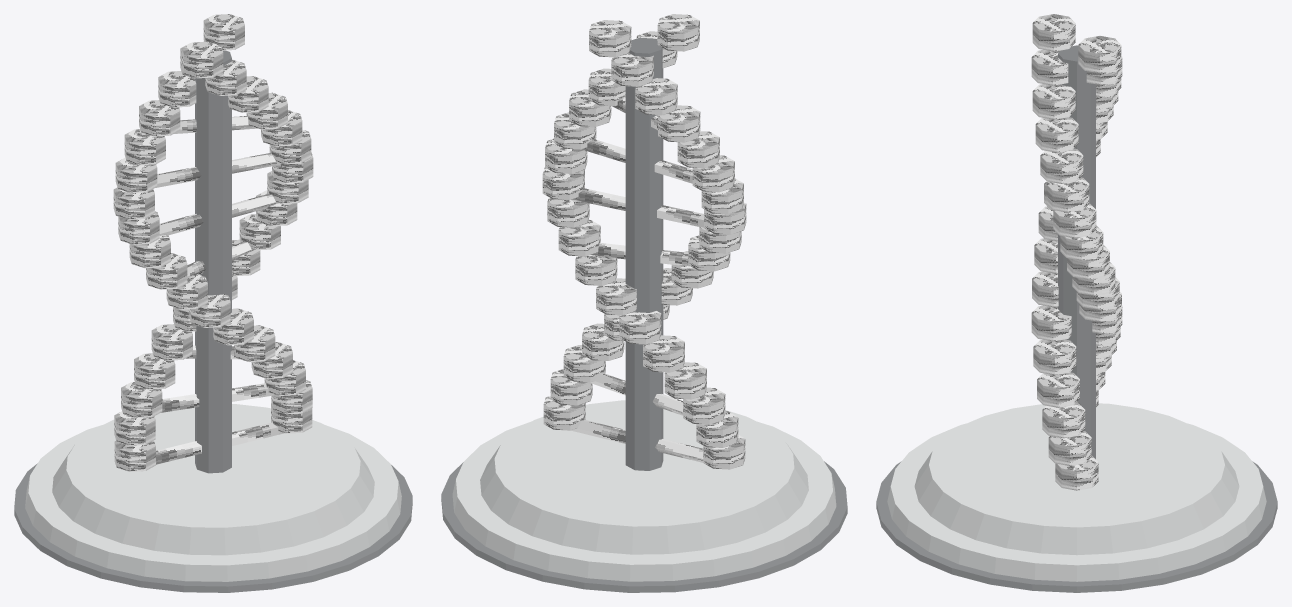
The model's file is Building_SculptureLarge__D.glb.
3 views of the same model, side by side, from view 1: azimuth 30°, elevation 25°; view 2: azimuth 150°, elevation 25°; view 3: azimuth 270°, elevation 25° (orthographic).
Visible parts, largest first — view 1: SculptureLarge__D; view 2: SculptureLarge__D; view 3: SculptureLarge__D.
Part boxes in pixels (x1,y1,x2,y2): SculptureLarge__D: (14,14,412,592); SculptureLarge__D: (441,14,847,592); SculptureLarge__D: (876,14,1277,592).
Size of the model in its own units: 1.68 by 2.19 by 1.68.
Materials: 1 (1 with a texture image).
